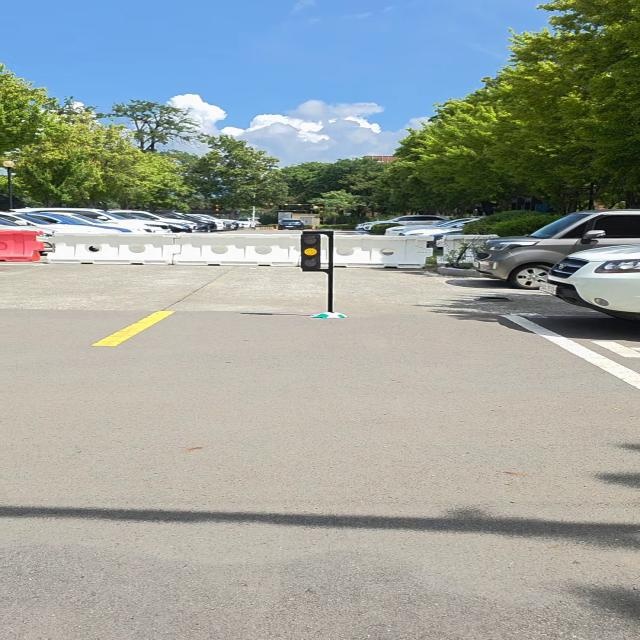yellow: (300, 234, 322, 272)
